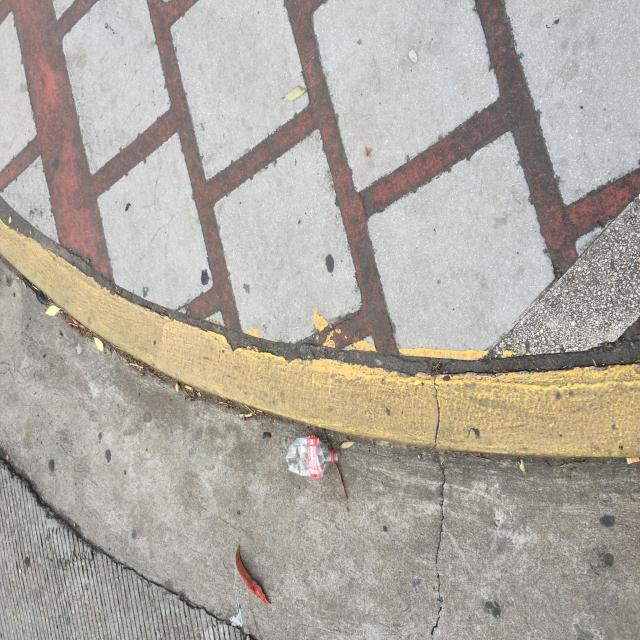bottle: (280, 430, 346, 483)
